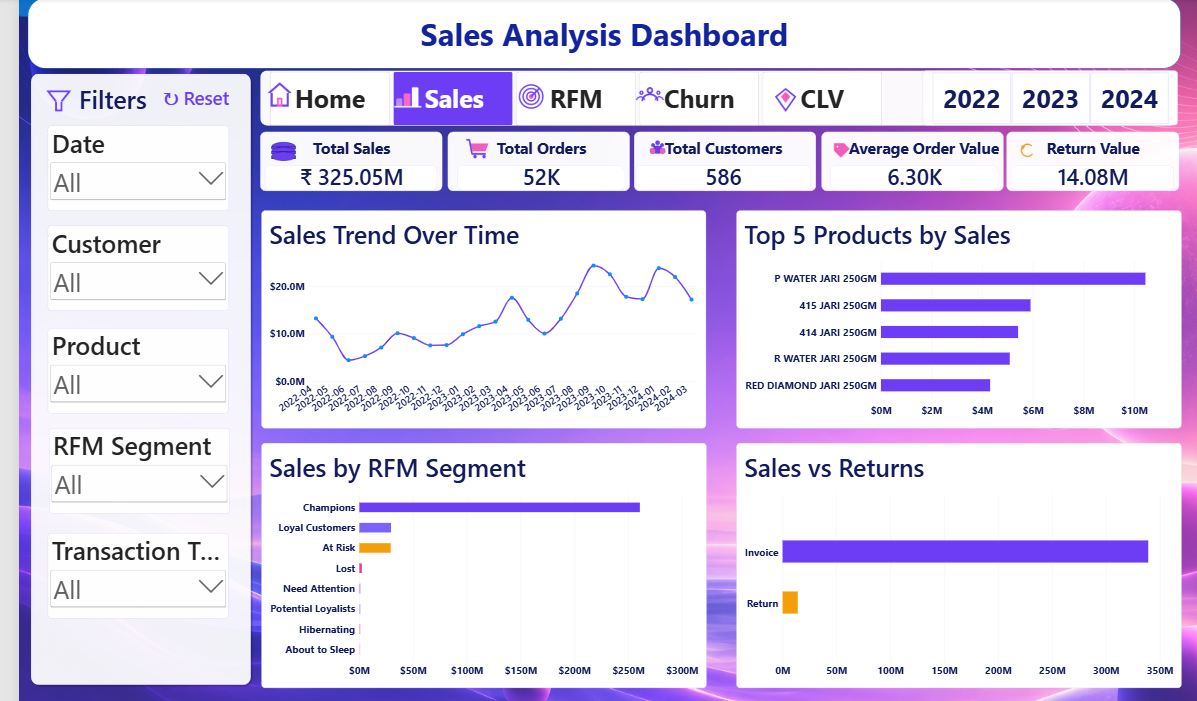

Layout of this report page (visuals, bound fields, positions):
{"tool":"powerbi","page":{"name":"Sales ","canvas":[2560,1600],"ordinal":1},"visuals":[{"type":"shape","box":[18.8,155.5,485.3,1324.4],"z":0},{"type":"shape","box":[517.4,155,1966.5,118.2],"z":1000},{"type":"image","box":[348.7,17.9,115.8,79.6],"z":2000},{"type":"image","box":[794.9,20.5,80,80],"z":3000},{"type":"image","box":[42.9,179.6,84.5,79.6],"z":4000},{"type":"textbox","box":[128.7,179.6,219.8,80.4],"z":5000},{"type":"actionButton","box":[297.6,179.6,188.2,79.6],"z":6000},{"type":"slicer","fields":{"Values":["Calendar.Date.Variation.Date Hierarchy.Year"]},"box":[1938.3,155,546.9,118],"z":7000},{"type":"slicer","fields":{"Values":["Calendar.Date"]},"box":[62.7,272.7,388.5,183.4],"z":8000},{"type":"slicer","fields":{"Values":["Sales_Data.Customer Name"]},"box":[62.1,487.9,388.5,183.4],"z":9000},{"type":"actionButton","box":[0,0,100,40],"z":10000},{"type":"shape","title":"CLV  Analysis","box":[18.4,0,2473.2,151.2],"z":11000},{"type":"cardVisual","title":"Total Sales","fields":{"Data":["Sales_Data.Total Sales"]},"box":[518.4,286,390,127],"z":12000},{"type":"image","box":[521.1,278.9,94.7,100],"z":13000},{"type":"cardVisual","title":"Total Orders","fields":{"Data":["Sales_Data.Total Orders"]},"box":[920,286.8,390,127],"z":14000},{"type":"image","box":[939.5,286.8,89.5,73.7],"z":15000},{"type":"slicer","fields":{"Values":["Sales_Data.Product Name"]},"box":[62.1,708.6,388,183],"z":16000},{"type":"slicer","fields":{"Values":["Customer_RFM.RFM Segment"]},"box":[63.8,922.4,388,183],"z":17000},{"type":"slicer","fields":{"Values":["Sales_Data.Transaction Type"]},"box":[62.1,1148.3,388,183],"z":18000},{"type":"cardVisual","title":"Total Customers","fields":{"Data":["Sales_Data.Total Customers"]},"box":[1320,286.2,390,127],"z":19000},{"type":"image","box":[1343.1,298.3,53.4,44.8],"z":20000},{"type":"cardVisual","title":"Average Order Value","fields":{"Data":["Sales_Data.Average Order Value"]},"box":[1720.7,286.2,390,127],"z":21000},{"type":"image","box":[1729.3,298.3,70.7,51.7],"z":22000},{"type":"cardVisual","title":"Return Value","fields":{"Data":["Sales_Data.Return Value"]},"box":[2119,286.2,370,127],"z":23000},{"type":"image","box":[2122.4,301.7,79.3,48.3],"z":24000},{"type":"lineChart","title":"Sales Trend Over Time","fields":{"Category":["Calendar.Year Month"],"Y":["Sales_Data.Total Sales"]},"box":[520.7,455.2,953.4,467.2],"z":25000},{"type":"clusteredBarChart","title":"Sales by RFM Segment","fields":{"Category":["Customer_RFM.RFM Segment"],"Y":["Sales_Data.Total Sales"]},"box":[520.1,954.4,954.4,525.5],"z":26000},{"type":"clusteredBarChart","title":"Top 5 Products by Sales","fields":{"Y":["Sales_Data.Total Sales"],"Category":["Sales_Data.Product Name"]},"box":[1537.9,455,954,467],"z":27000},{"type":"clusteredBarChart","title":"Sales vs Returns","fields":{"Category":["Sales_Data.Transaction Type"],"Y":["Sales_Data.Transaction Value"]},"box":[1538.9,954.4,954.4,525.5],"z":28000},{"type":"pageNavigator","box":[538.5,158,1312.8,115.4],"z":29000},{"type":"image","box":[517.9,169.2,83.1,80.4],"z":30000},{"type":"image","box":[710.5,136.8,247.4,150],"z":31000},{"type":"image","box":[1307.7,176.9,89.7,76.9],"z":32000},{"type":"image","box":[1607.9,173.7,71.1,89.5],"z":33000},{"type":"image","box":[1053.8,171.8,89.7,79.5],"z":34000}]}

Visuals, with their boxes on the page's 2560x1600 design canvas (x1, y1, x2, y2). These are canvas units, not pixel positions in the 1197x701 screenshot, which may show the page scaled, cropped or inside an application window:
shape: 19 156 504 1480
shape: 517 155 2484 273
image: 349 18 464 98
image: 795 20 875 100
image: 43 180 127 259
textbox: 129 180 348 260
actionButton: 298 180 486 259
slicer - Calendar.Date.Variation.Date Hierarchy.Year: 1938 155 2485 273
slicer - Calendar.Date: 63 273 451 456
slicer - Sales_Data.Customer Name: 62 488 451 671
actionButton: 0 0 100 40
"CLV  Analysis" shape: 18 0 2492 151
"Total Sales" cardVisual: 518 286 908 413
image: 521 279 616 379
"Total Orders" cardVisual: 920 287 1310 414
image: 940 287 1029 360
slicer - Sales_Data.Product Name: 62 709 450 892
slicer - Customer_RFM.RFM Segment: 64 922 452 1105
slicer - Sales_Data.Transaction Type: 62 1148 450 1331
"Total Customers" cardVisual: 1320 286 1710 413
image: 1343 298 1396 343
"Average Order Value" cardVisual: 1721 286 2111 413
image: 1729 298 1800 350
"Return Value" cardVisual: 2119 286 2489 413
image: 2122 302 2202 350
"Sales Trend Over Time" lineChart: 521 455 1474 922
"Sales by RFM Segment" clusteredBarChart: 520 954 1474 1480
"Top 5 Products by Sales" clusteredBarChart: 1538 455 2492 922
"Sales vs Returns" clusteredBarChart: 1539 954 2493 1480
pageNavigator: 538 158 1851 273
image: 518 169 601 250
image: 710 137 958 287
image: 1308 177 1397 254
image: 1608 174 1679 263
image: 1054 172 1144 251
